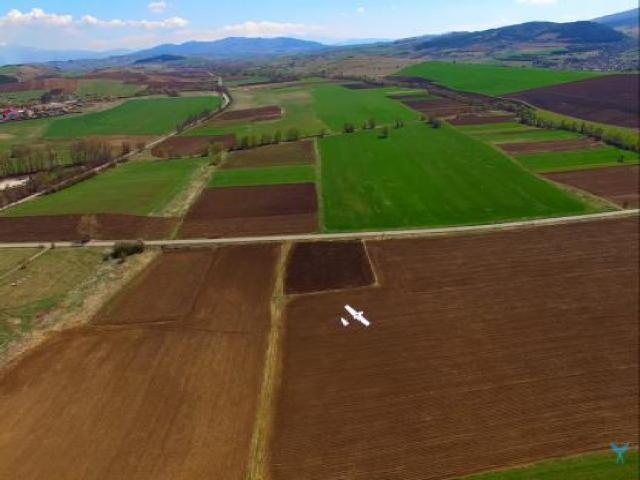uav: (333, 299, 378, 334)
